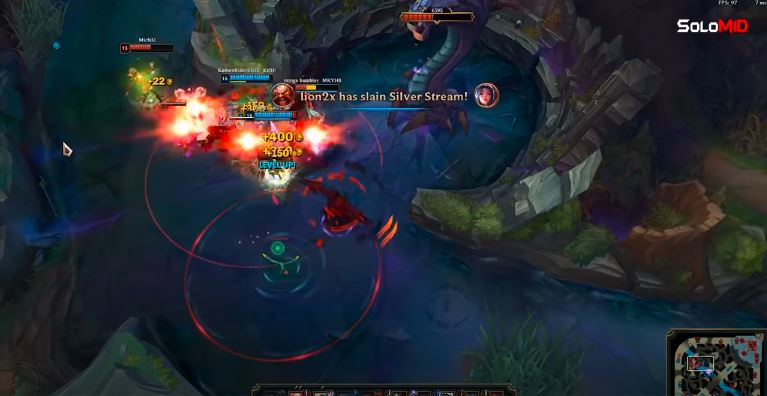bar: (117, 41, 177, 56), (278, 82, 343, 95), (245, 108, 301, 122), (220, 72, 276, 85)
